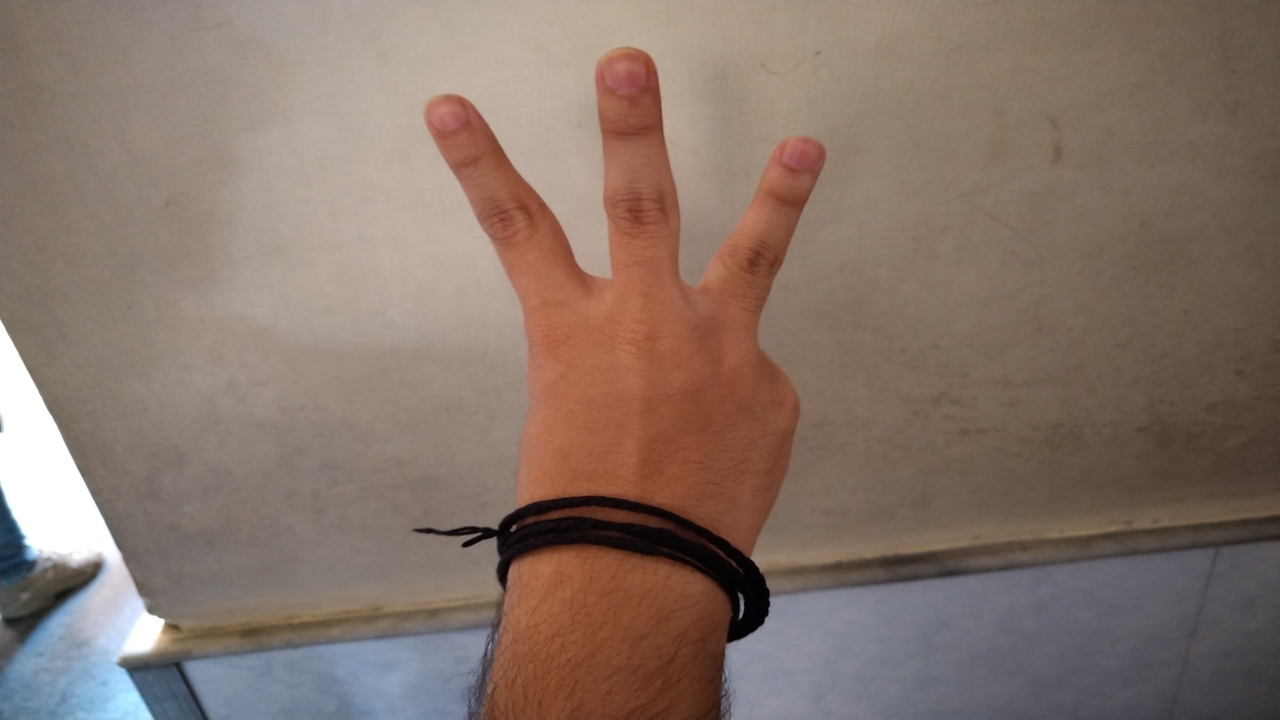fingertip: (594, 46, 662, 106), (764, 130, 832, 188), (414, 92, 484, 146)
